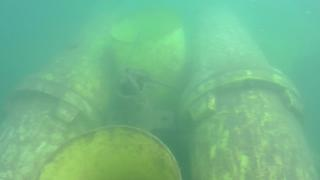pipe: (185, 9, 316, 180), (1, 16, 111, 180), (108, 11, 187, 125), (33, 124, 184, 180)
